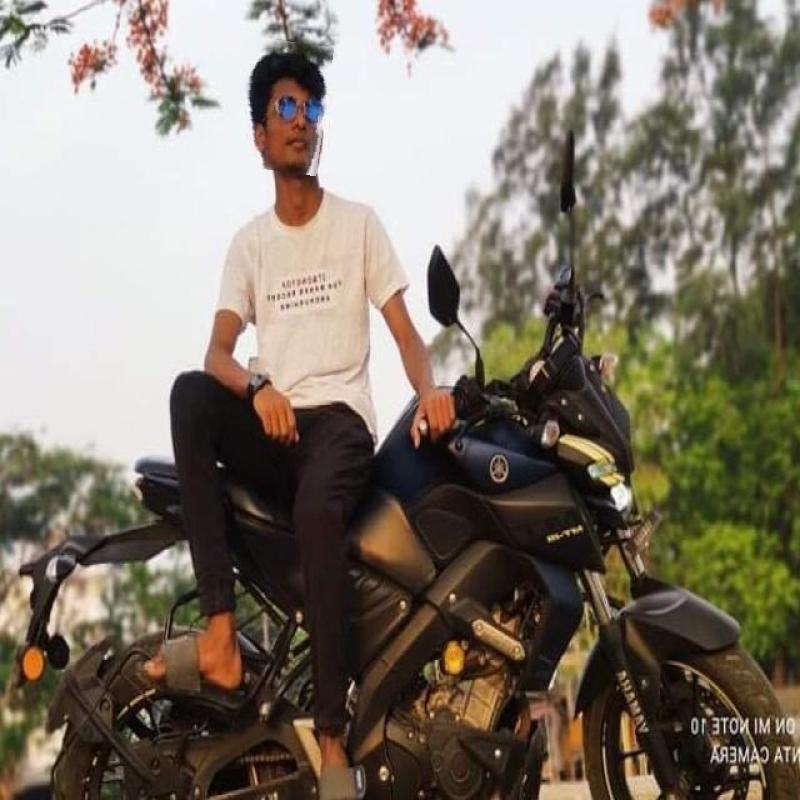nohelmet: (234, 38, 330, 174)
